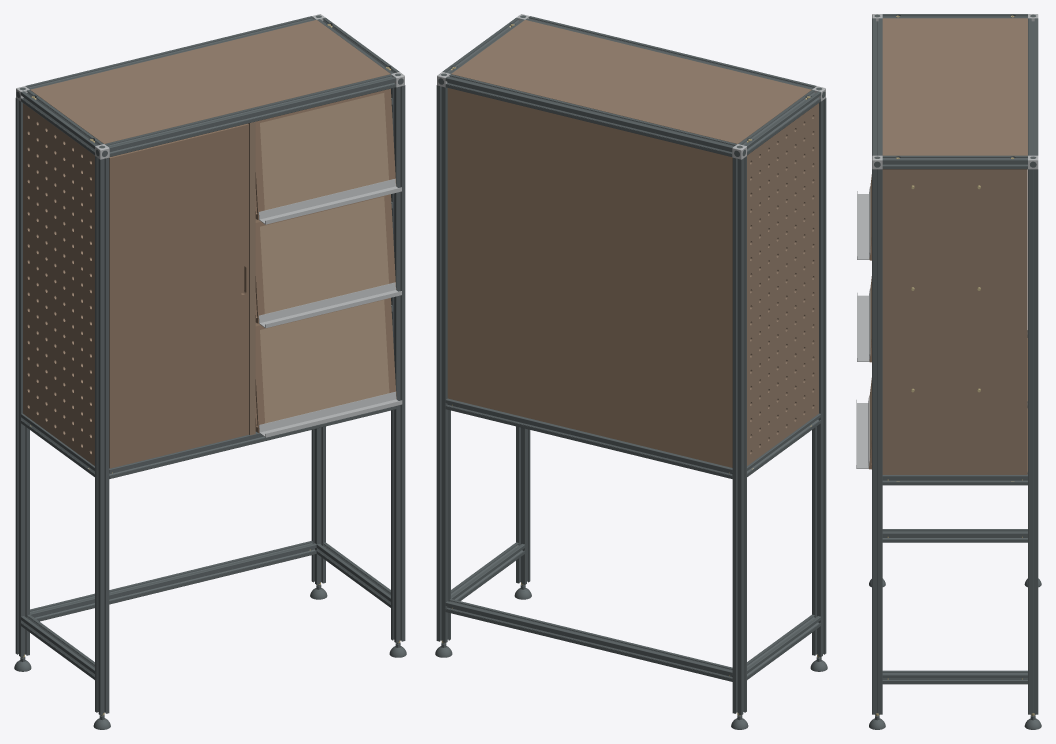
File: cabinet-0.glb
3 views of the same model, side by side, from view 1: azimuth 30°, elevation 25°; view 2: azimuth 150°, elevation 25°; view 3: azimuth 270°, elevation 25° (orthographic).
Visible parts, largest first — view 1: Left-door-face-18, Left-pegboard-18, Top-18, Plywood-infill-6-1, Plywood-infill-6-2, Plywood-infill-6-3, Post-4-23, Post-966-23, Post-4-470, Beam-top-front, Beam-lower-rear, Beam-body-front (+17 smaller); view 2: Back-infill-8, Left-pegboard-18, Top-18, Post-4-470, Post-966-470, Post-4-23, Beam-top-rear, Beam-lower-rear, Beam-body-rear, Post-966-23, Beam-top-front, Beam-top-side-4 (+4 smaller); view 3: Right-wall-18, Top-18, Post-966-23, Post-966-470, Beam-lower-side-966, Beam-top-side-966, Beam-lower-side-4, Beam-body-side-966, Beam-top-rear, Beam-top-front, Display-ledge-2, Display-ledge-1 (+2 smaller).
Part boxes in pixels (<box>): Left-door-face-18: <box>109,123,248,468</box>; Left-pegboard-18: <box>23,103,94,465</box>; Top-18: <box>30,20,390,143</box>; Plywood-infill-6-1: <box>260,300,389,423</box>; Plywood-infill-6-2: <box>260,196,388,313</box>; Plywood-infill-6-3: <box>260,93,388,210</box>; Post-4-23: <box>95,156,109,715</box>; Post-966-23: <box>391,85,405,642</box>; Post-4-470: <box>15,98,29,656</box>; Beam-top-front: <box>104,74,396,156</box>; Beam-lower-rear: <box>30,541,316,621</box>; Beam-body-front: <box>109,406,396,478</box>; Back-infill-8: <box>447,88,732,467</box>; Left-pegboard-18: <box>747,103,818,465</box>; Top-18: <box>451,20,811,143</box>; Post-4-470: <box>732,156,746,715</box>; Post-966-470: <box>436,85,450,642</box>; Post-4-23: <box>812,98,826,656</box>; Beam-top-rear: <box>445,74,737,156</box>; Beam-lower-rear: <box>445,599,732,681</box>; Beam-body-rear: <box>445,398,732,478</box>; Post-966-23: <box>516,426,530,584</box>; Beam-top-front: <box>525,16,816,89</box>; Beam-top-side-4: <box>738,90,820,155</box>; Right-wall-18: <box>882,169,1027,474</box>; Top-18: <box>882,18,1027,155</box>; Post-966-23: <box>872,169,882,714</box>; Post-966-470: <box>1028,169,1038,714</box>; Beam-lower-side-966: <box>882,670,1027,684</box>; Beam-top-side-966: <box>882,155,1027,169</box>; Beam-lower-side-4: <box>882,529,1027,542</box>; Beam-body-side-966: <box>882,472,1027,485</box>; Beam-top-rear: <box>1028,18,1038,155</box>; Beam-top-front: <box>872,18,882,155</box>; Display-ledge-2: <box>857,289,870,361</box>; Display-ledge-1: <box>856,396,869,468</box>.
Size of the model in its own units: 1.01 by 1.8 by 0.5317.
